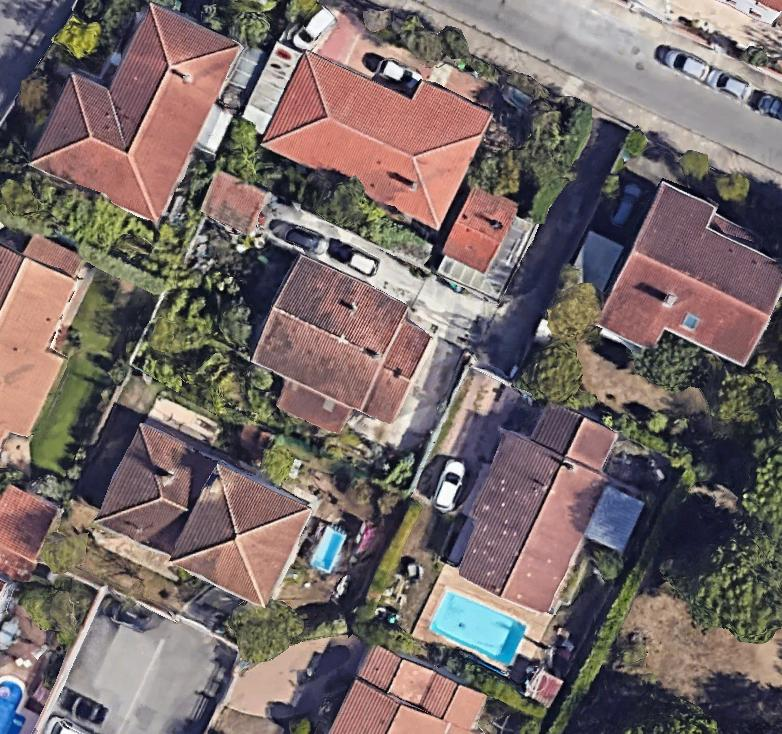maison: (28, 0, 244, 225), (259, 30, 491, 228), (90, 415, 321, 609), (440, 389, 628, 618), (235, 252, 440, 453), (591, 180, 782, 395), (0, 240, 81, 437), (329, 643, 487, 734), (0, 483, 59, 585)
